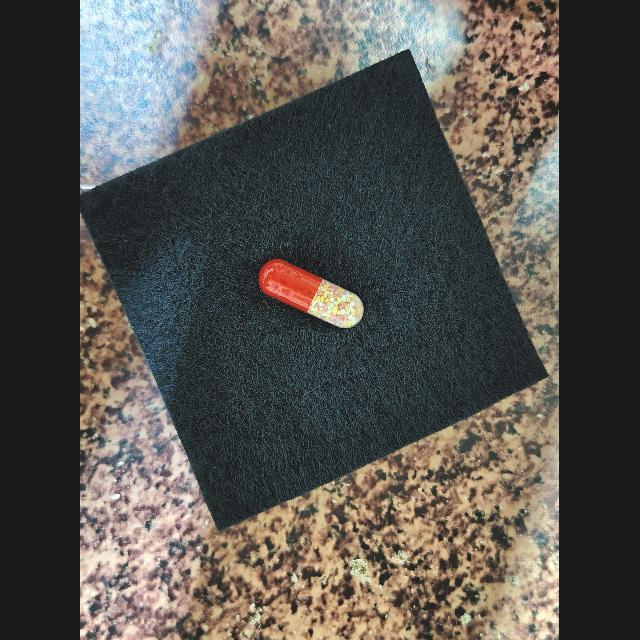Intact Capsule: (259, 259, 365, 329)
